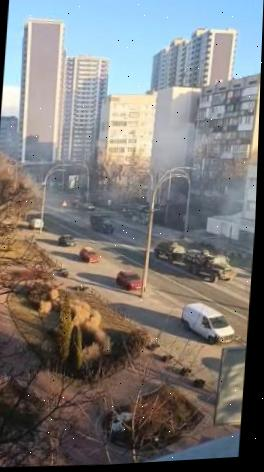car: (113, 267, 143, 291), (77, 245, 100, 263), (56, 231, 76, 247), (27, 217, 43, 230)
truck: (181, 245, 237, 285), (88, 210, 115, 235)
